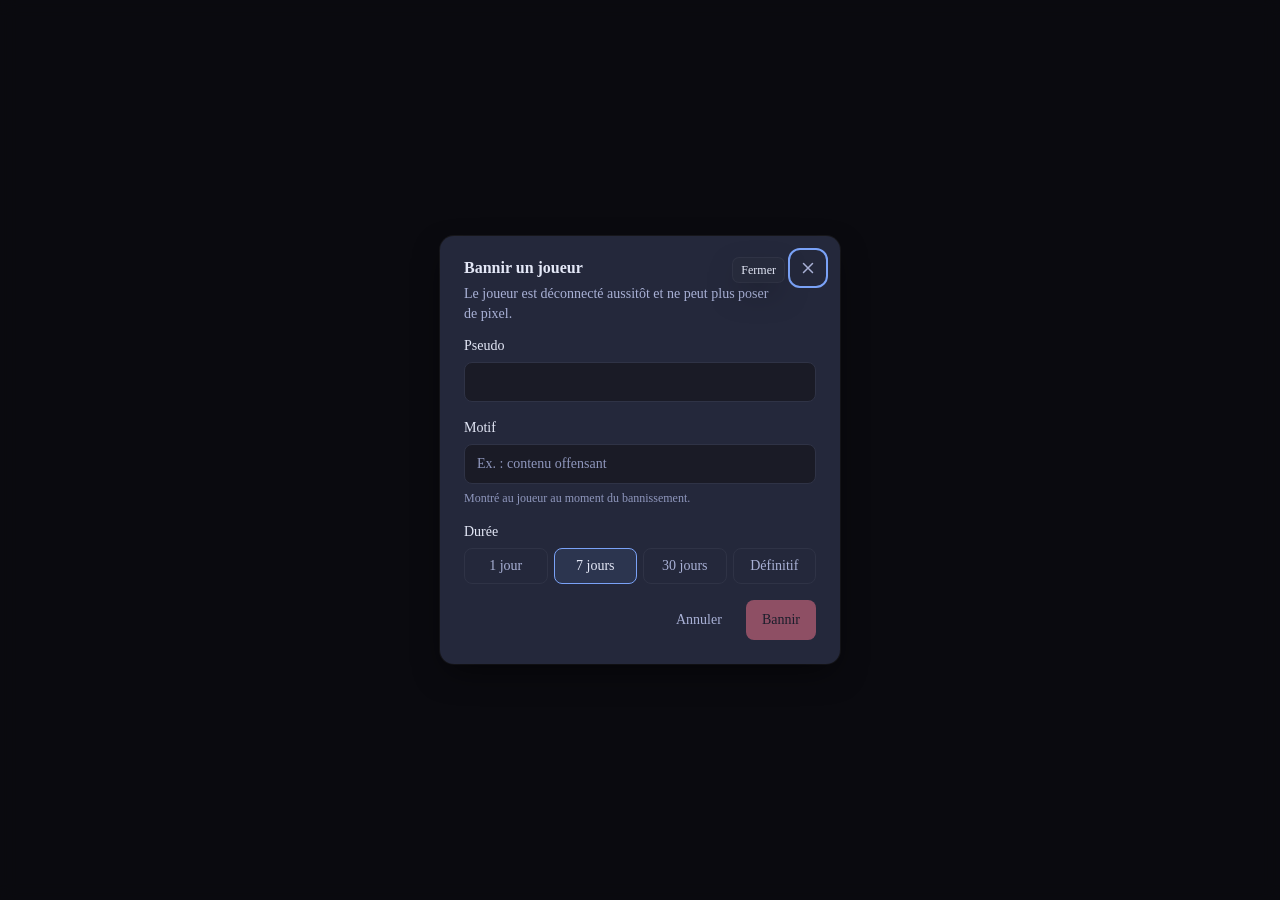
<BanDialog /> › affiche le refus du serveur
The width and height of the screenshot is (1280, 900).
Type "<>" into the field labelled "Pseudo" at (640, 382), box x1=464 y1=362 x2=816 y2=402
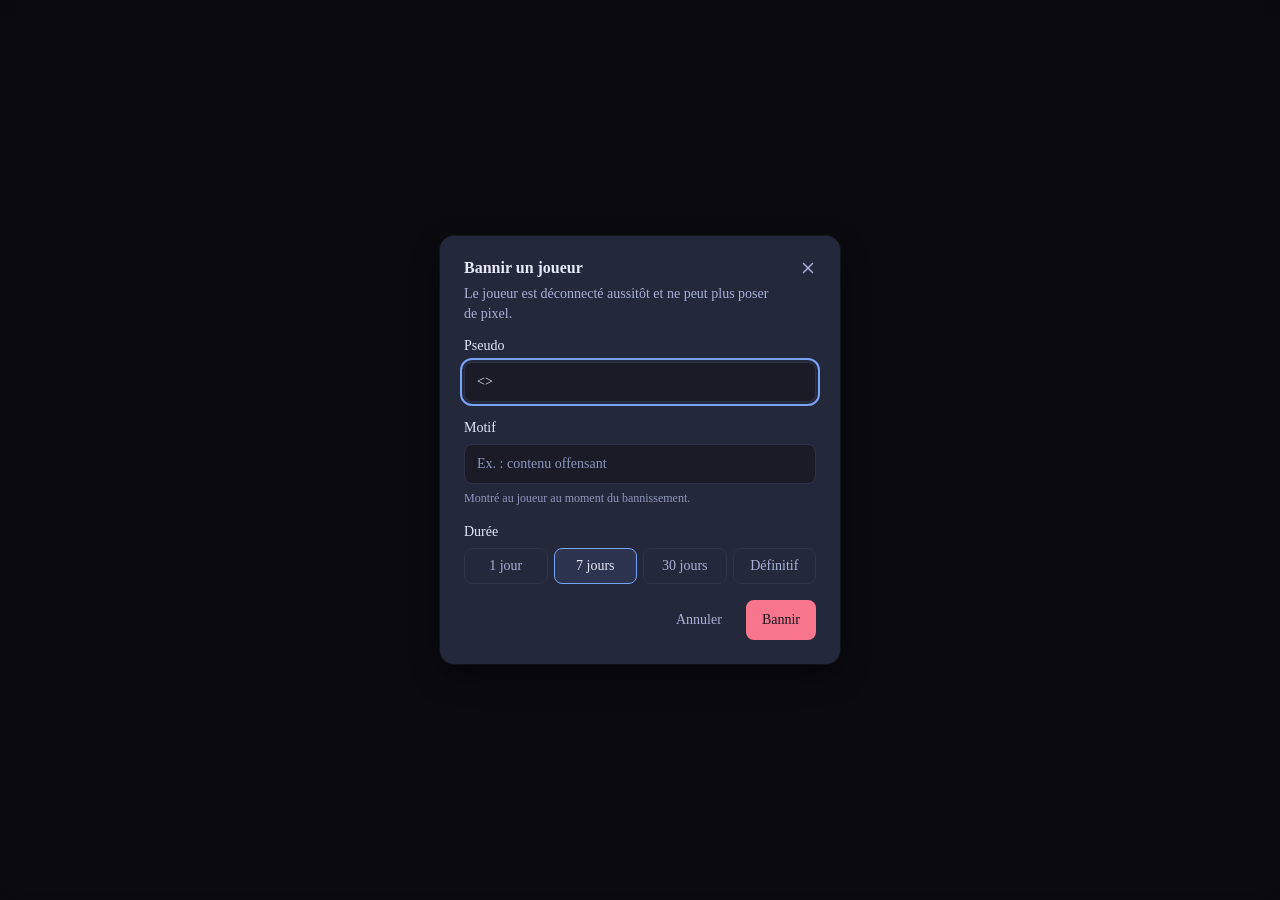
Click the button "Bannir" at (781, 620), box x1=746 y1=600 x2=816 y2=640
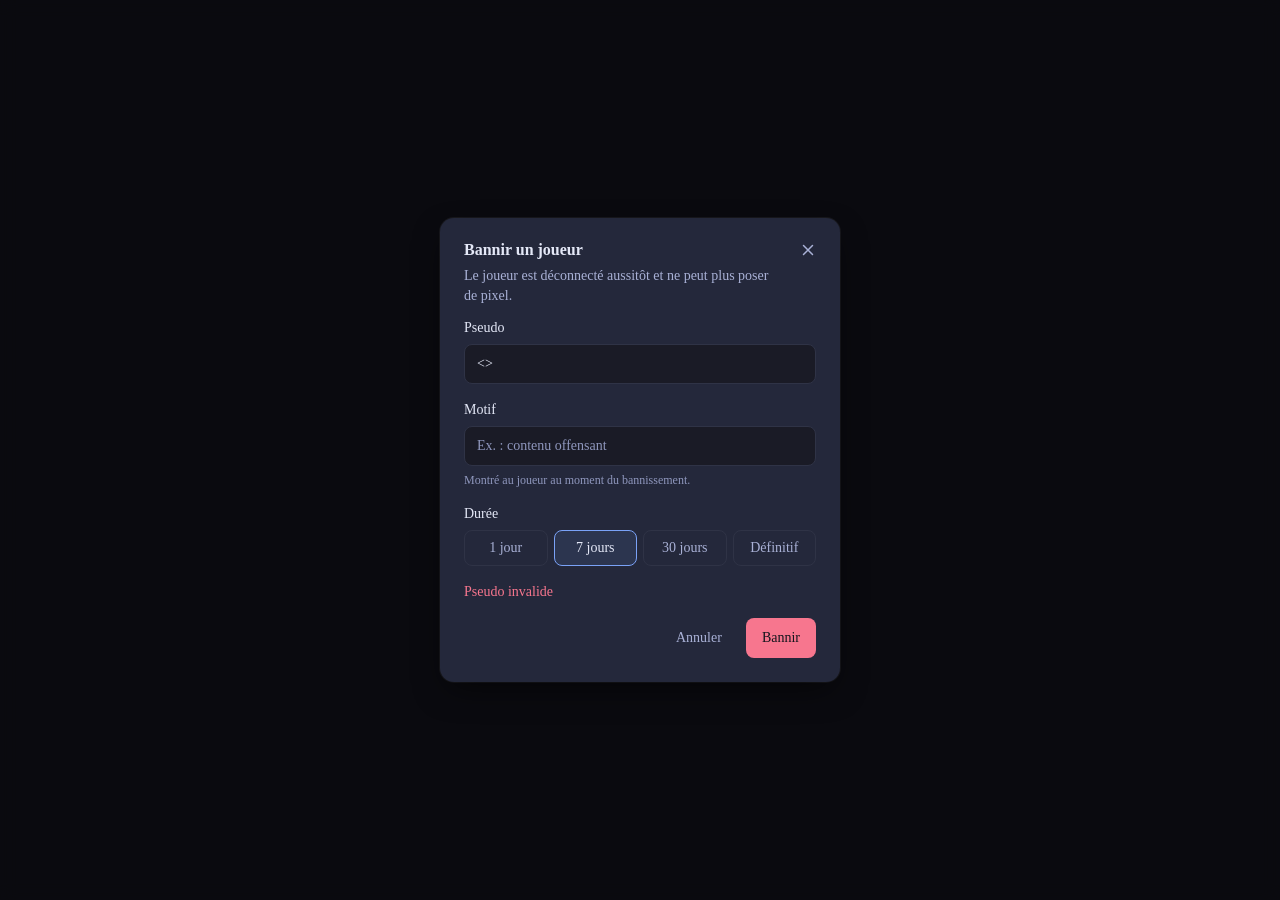
Result: the message reads "Pseudo invalide" at x1=464 y1=584 x2=553 y2=599
